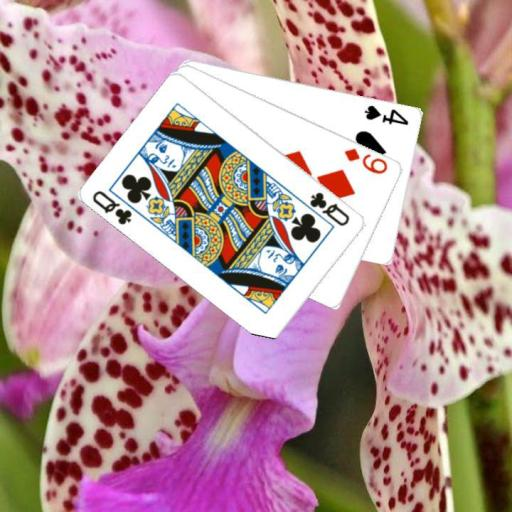4S: (362, 102, 410, 126)
9D: (341, 144, 390, 176)
QC: (306, 189, 352, 229), (90, 187, 135, 227)
